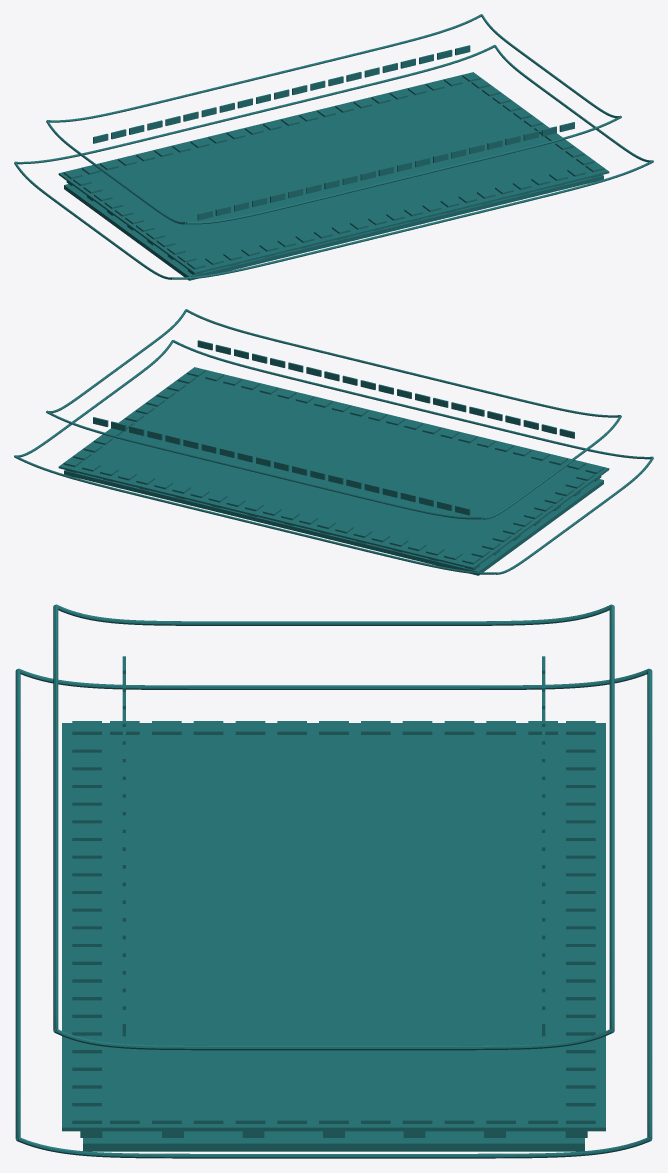
File: SM_08_teal.fbx
3 renders of one model, top to bottom at view 1: azimuth 30°, elevation 25°; view 2: azimuth 150°, elevation 25°; view 3: azimuth 270°, elevation 25°, orthographic. The views are drawn at different scales.
Visible parts, largest first — view 1: teal; view 2: teal; view 3: teal.
Boxes of the visible parts, x1,y1,x2,y2 form: teal: (14, 14, 653, 280); teal: (14, 309, 653, 575); teal: (15, 604, 652, 1158).
Bounding box in the file's own units: 5324 × 3044 × 701.
